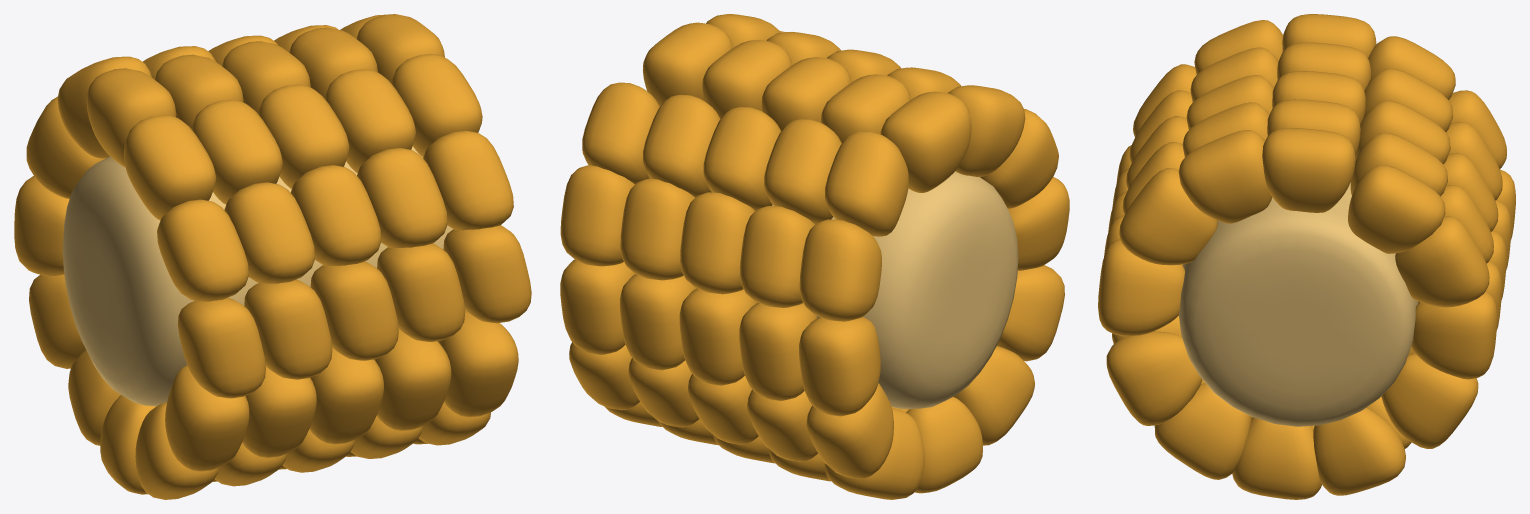
The model's file is corn.glb.
3 renders of one model, left to right at view 1: azimuth 30°, elevation 25°; view 2: azimuth 150°, elevation 25°; view 3: azimuth 270°, elevation 25°, orthographic. The views are drawn at different scales.
Visible parts, largest first — view 1: Cube.004_3, Cube.005_4, Cube.002_2, Cube.006_5, corn_13, Cube_1, Cube.007_6, Cube.013_12, Cube.011_10, Cube.012_11, Cube.010_9, Cube.008_7 (+1 smaller); view 2: Cube.012_11, Cube.013_12, Cube.011_10, corn_13, Cube_1, Cube.010_9, Cube.002_2, Cube.009_8, Cube.008_7, Cube.007_6, Cube.006_5, Cube.004_3 (+1 smaller); view 3: corn_13, Cube.013_12, Cube_1, Cube.002_2, Cube.012_11, Cube.004_3, Cube.011_10, Cube.005_4, Cube.006_5, Cube.009_8, Cube.010_9, Cube.007_6 (+1 smaller).
Boxes of the visible parts, x1,y1,x2,y2 form: Cube.004_3: [157, 130, 513, 301]; Cube.005_4: [177, 225, 531, 398]; Cube.002_2: [124, 54, 482, 220]; Cube.006_5: [165, 310, 518, 471]; corn_13: [63, 146, 452, 406]; Cube_1: [86, 14, 444, 167]; Cube.007_6: [135, 402, 490, 499]; Cube.013_12: [57, 15, 382, 158]; Cube.011_10: [14, 176, 69, 276]; Cube.012_11: [26, 96, 105, 198]; Cube.010_9: [29, 274, 85, 368]; Cube.008_7: [100, 395, 427, 494]; Cube.012_11: [560, 165, 881, 321]; Cube.013_12: [582, 82, 908, 236]; Cube.011_10: [560, 259, 880, 416]; corn_13: [757, 171, 1018, 408]; Cube_1: [642, 22, 971, 192]; Cube.010_9: [569, 342, 893, 479]; Cube.002_2: [706, 14, 1025, 176]; Cube.009_8: [604, 402, 924, 499]; Cube.008_7: [891, 397, 982, 493]; Cube.007_6: [953, 346, 1034, 445]; Cube.006_5: [997, 265, 1064, 361]; Cube.004_3: [780, 31, 1058, 208]; corn_13: [1179, 182, 1418, 426]; Cube.013_12: [1348, 36, 1455, 253]; Cube_1: [1262, 14, 1376, 212]; Cube.002_2: [1178, 20, 1283, 223]; Cube.012_11: [1395, 90, 1506, 307]; Cube.004_3: [1119, 64, 1217, 265]; Cube.011_10: [1411, 169, 1515, 379]; Cube.005_4: [1098, 145, 1184, 336]; Cube.006_5: [1106, 315, 1202, 425]; Cube.009_8: [1313, 397, 1411, 495]; Cube.010_9: [1381, 347, 1478, 448]; Cube.007_6: [1154, 380, 1251, 479].
Bounding box in the file's own units: 1.5 × 1.62 × 1.69.
